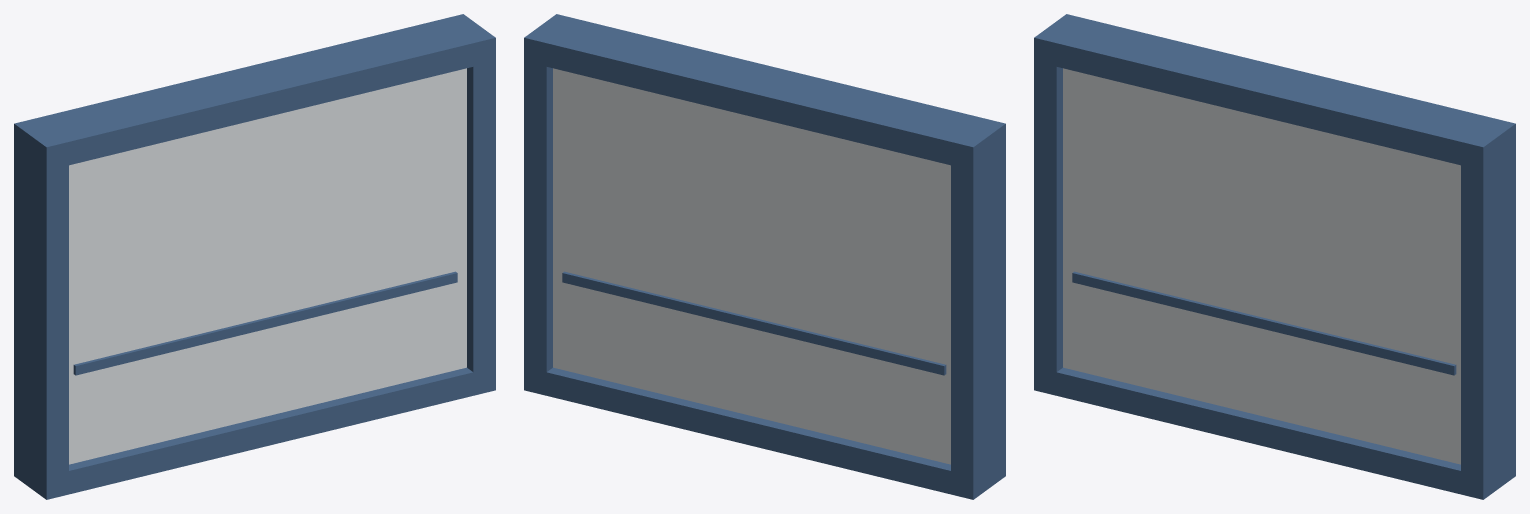
The model's file is wall_panel.glb.
3 views of the same model, side by side, from view 1: azimuth 30°, elevation 25°; view 2: azimuth 150°, elevation 25°; view 3: azimuth 330°, elevation 25° (orthographic).
Visible parts, largest first — view 1: wall_panel_hull_offwhite, wall_panel_navy_frame; view 2: wall_panel_hull_offwhite, wall_panel_navy_frame; view 3: wall_panel_hull_offwhite, wall_panel_navy_frame.
Boxes of the visible parts, x1=… form: wall_panel_hull_offwhite: x1=69, y1=68, x2=466, y2=464; wall_panel_navy_frame: x1=14, y1=14, x2=495, y2=499; wall_panel_hull_offwhite: x1=553, y1=68, x2=950, y2=464; wall_panel_navy_frame: x1=524, y1=14, x2=1005, y2=499; wall_panel_hull_offwhite: x1=1063, y1=68, x2=1460, y2=464; wall_panel_navy_frame: x1=1034, y1=14, x2=1515, y2=499.
Size of the model in its own units: 4 by 3 by 0.5.
